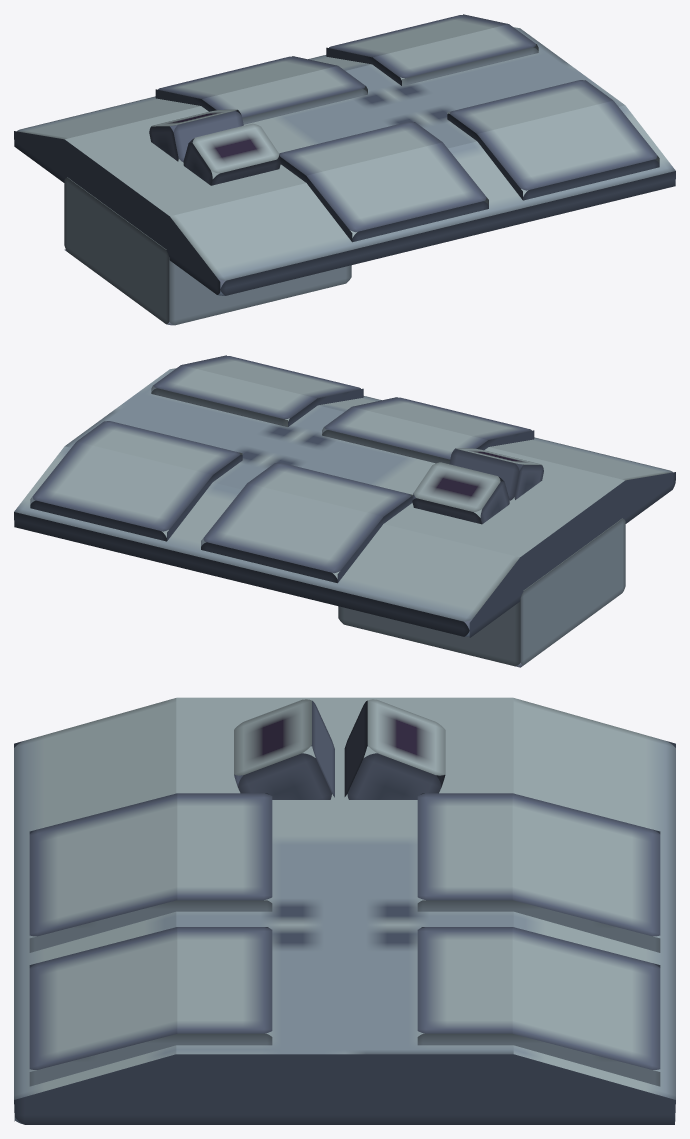
The model's file is df11_chimney_lh.obj.
3 renders of one model, top to bottom at view 1: azimuth 30°, elevation 25°; view 2: azimuth 150°, elevation 25°; view 3: azimuth 270°, elevation 25°, orthographic. The views are drawn at different scales.
Visible parts, largest first — view 1: cube_selection_selection_selection_selection; view 2: cube_selection_selection_selection_selection; view 3: cube_selection_selection_selection_selection.
Boxes of the visible parts, <box> form: cube_selection_selection_selection_selection: <box>14,14,675,325</box>; cube_selection_selection_selection_selection: <box>14,355,675,667</box>; cube_selection_selection_selection_selection: <box>14,697,675,1124</box>.
Bounding box in the file's own units: 2.5 × 0.7426 × 1.96.
